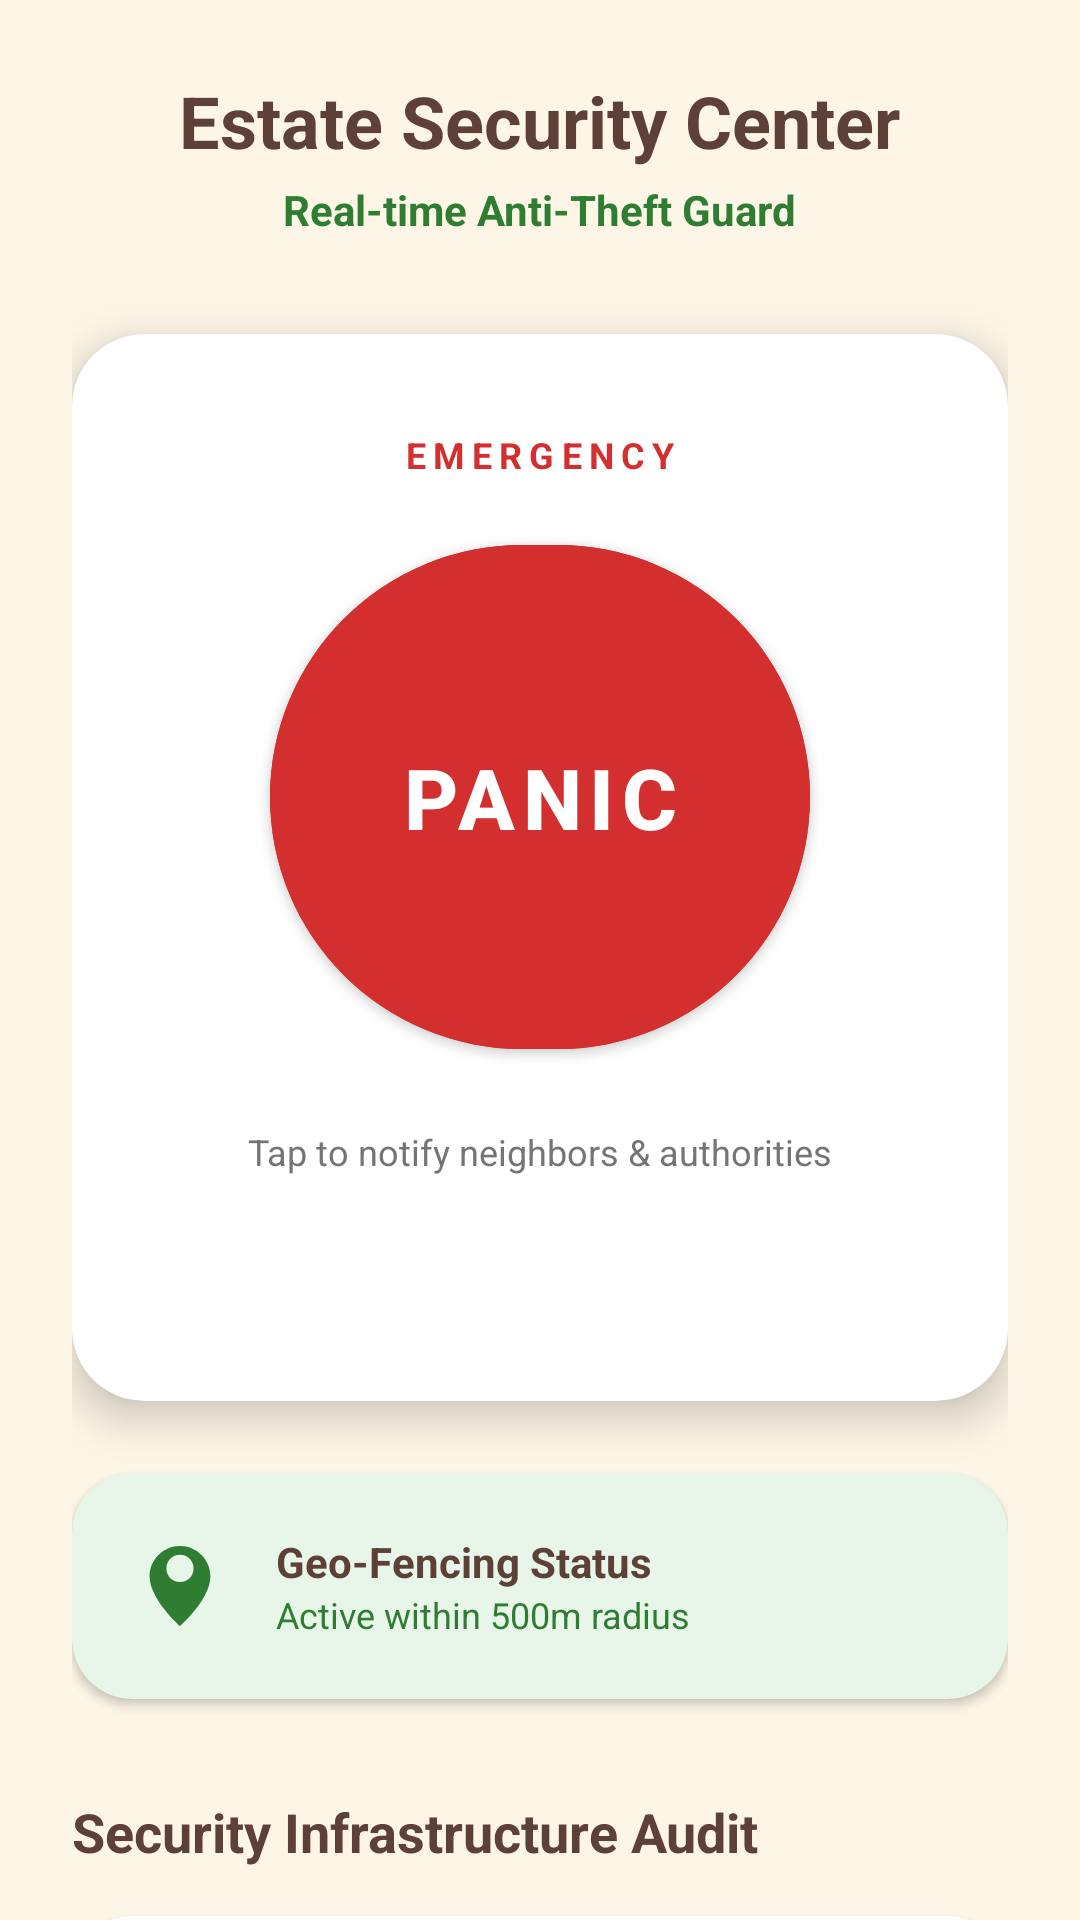

Locate icon controls on the screen. Image size 1080px x 1920px, boxes as (x1, y1, x2, y2).
location: (149, 1546, 211, 1626)
